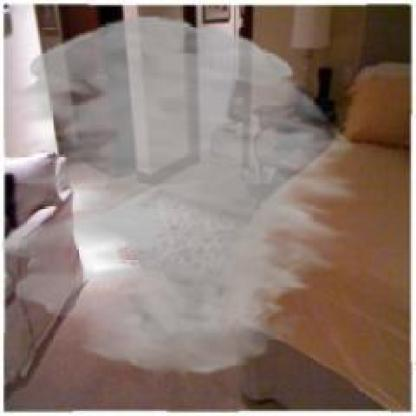Smoke: (2, 16, 359, 376)
